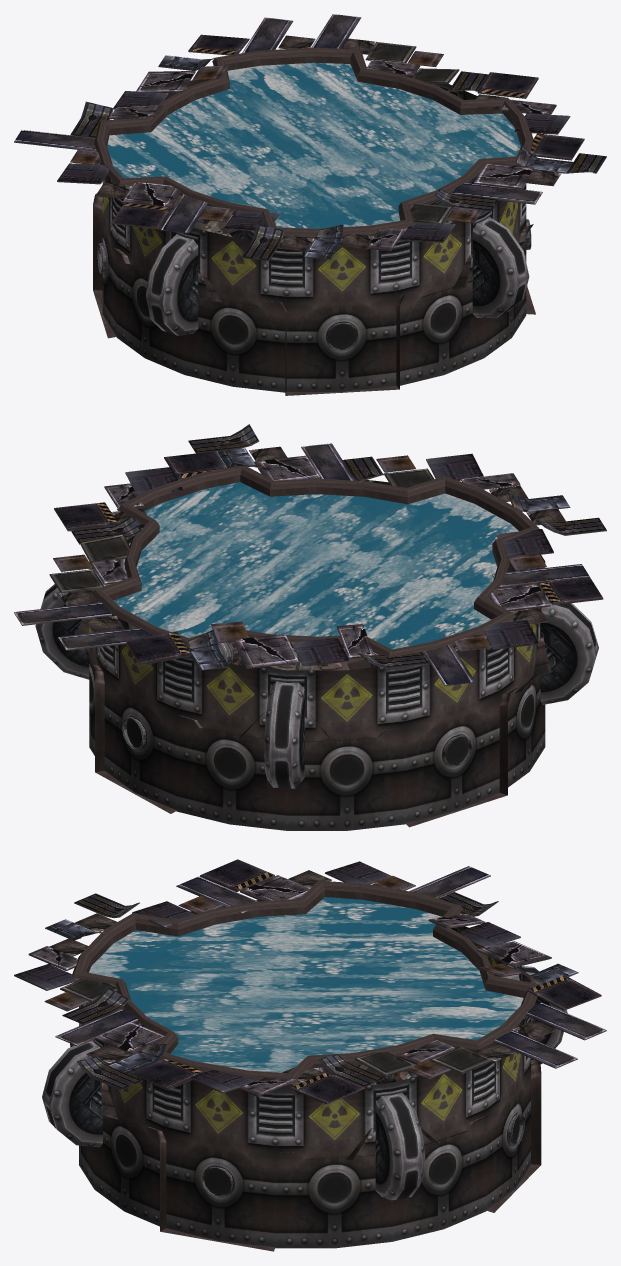
File: terrainobjectbraxisalphareactordeath.fbx
3 views of the same model, one above another, from view 1: azimuth 30°, elevation 25°; view 2: azimuth 150°, elevation 25°; view 3: azimuth 270°, elevation 25° (orthographic). The views are drawn at different scales.
Visible parts, largest first — view 1: Geoset_4, Geoset_1, Geoset_2, Geoset_0; view 2: Geoset_4, Geoset_1, Geoset_2, Geoset_0, Geoset_3; view 3: Geoset_4, Geoset_1, Geoset_2, Geoset_0.
Boxes of the visible parts, x1,y1,x2,y2 form: Geoset_4: (93, 67, 535, 395); Geoset_1: (107, 62, 520, 228); Geoset_2: (14, 14, 606, 260); Geoset_0: (94, 47, 533, 239); Geoset_4: (35, 478, 598, 830); Geoset_1: (114, 482, 518, 649); Geoset_2: (14, 424, 606, 685); Geoset_0: (91, 465, 539, 657); Geoset_3: (262, 648, 379, 670); Geoset_4: (42, 898, 567, 1251); Geoset_1: (89, 897, 523, 1072); Geoset_2: (14, 859, 606, 1104); Geoset_0: (72, 880, 537, 1085).
Size of the model in its own units: 12.12 by 4.41 by 12.44.
Materials: 3 (3 with a texture image).
